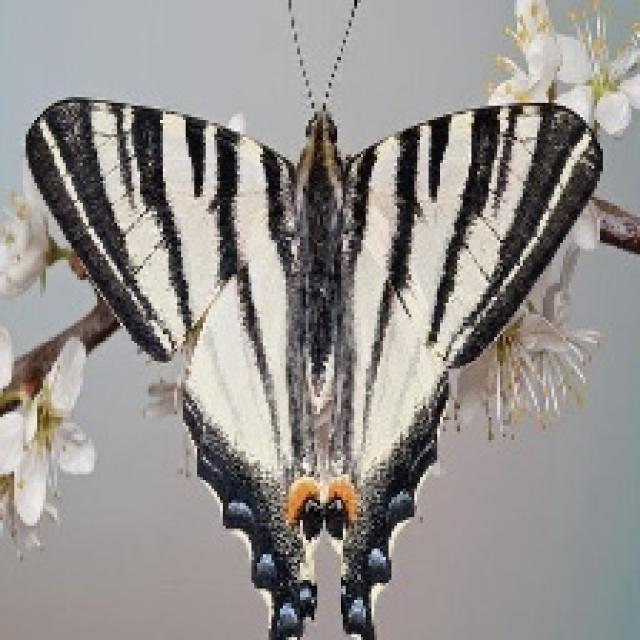butterfly: (28, 0, 603, 640)
